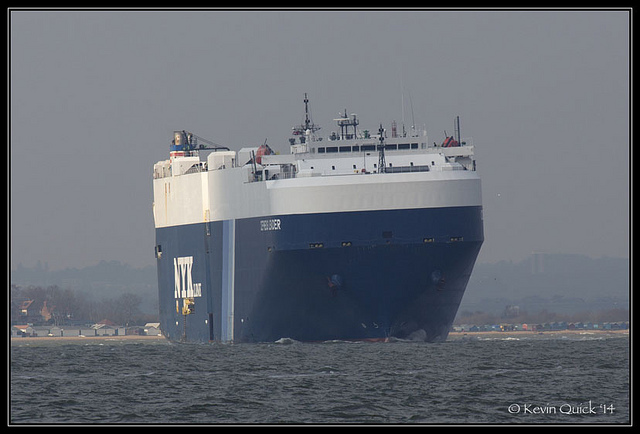PCC: (149, 110, 489, 345)
